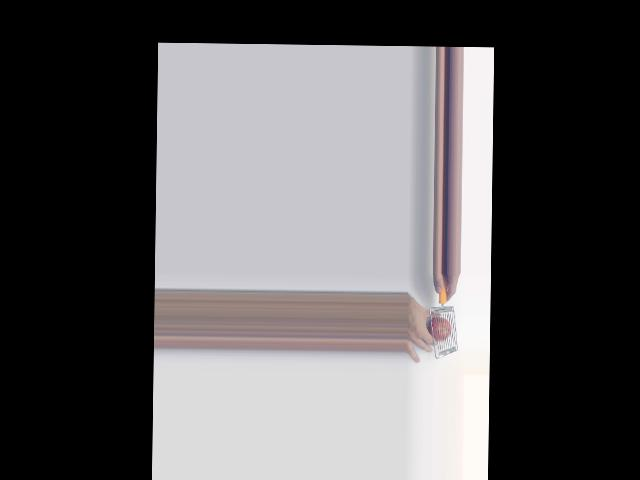tomato: (428, 316, 451, 340)
